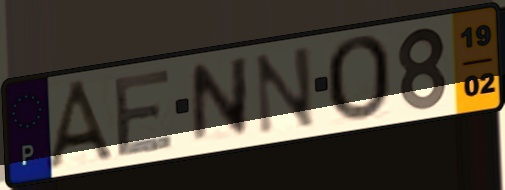8: (394, 25, 451, 113)
A: (42, 76, 122, 172)
E: (112, 65, 177, 161)
N: (252, 43, 318, 139), (189, 53, 251, 148)
O: (322, 33, 393, 126)
